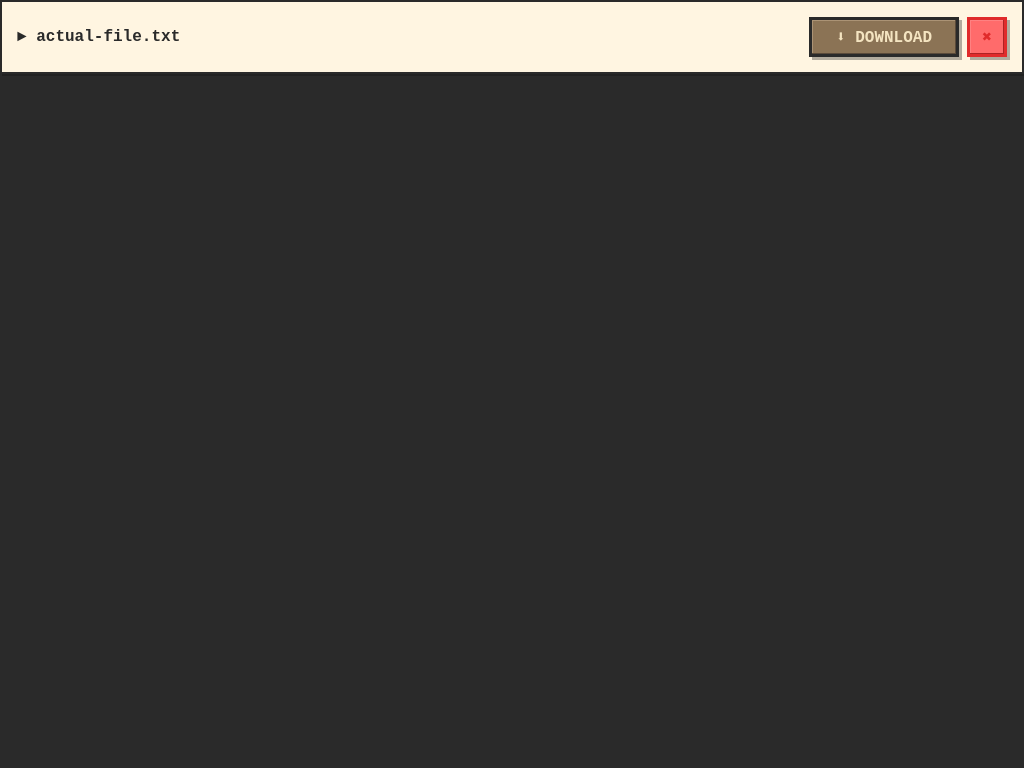
Test case: FileList › opens a modal when the delete button is pressed
This screenshot has width=1024, height=768.
What coordinates should you click on to do the following:
click the button named "delete"
I would click on:
 (987, 37)
Its box is top-left (967, 17), bottom-right (1007, 57).
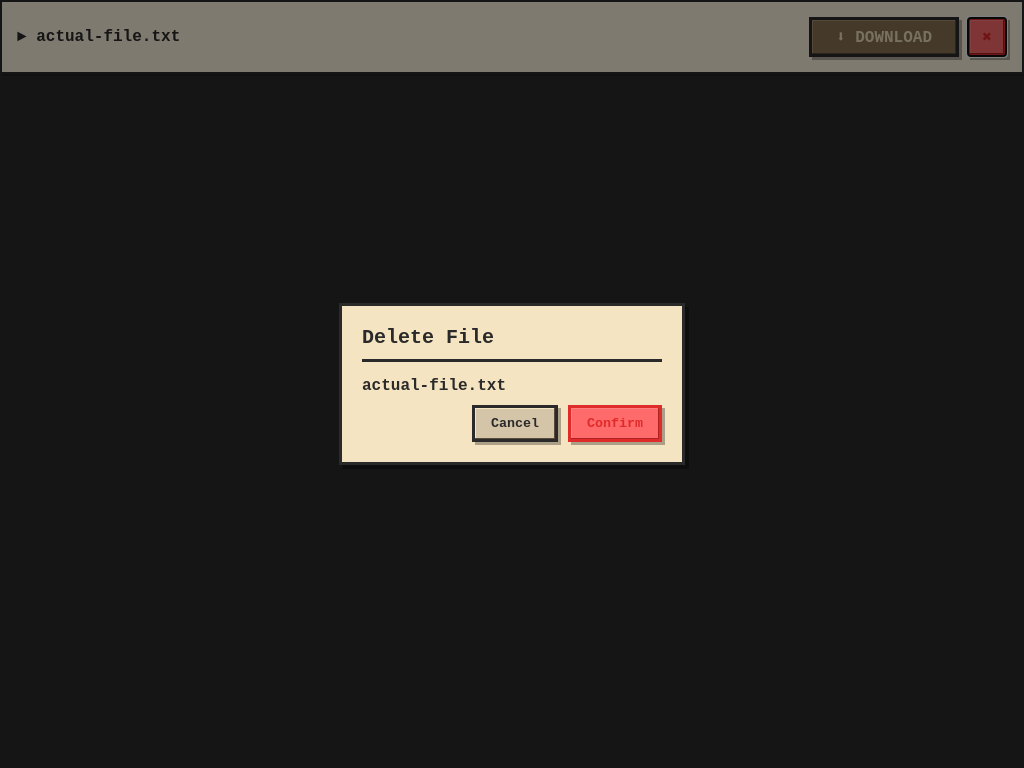
Result: the button "Confirm" is shown at top-left (568, 405), bottom-right (662, 442)
Result: the button "Cancel" is shown at top-left (472, 405), bottom-right (558, 442)
